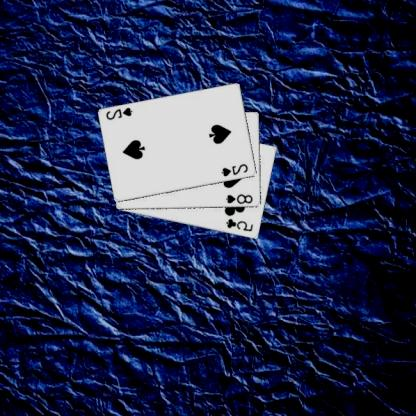2S: (105, 105, 136, 122), (221, 161, 251, 178)
5C: (225, 216, 256, 233)
8S: (225, 191, 256, 205)
